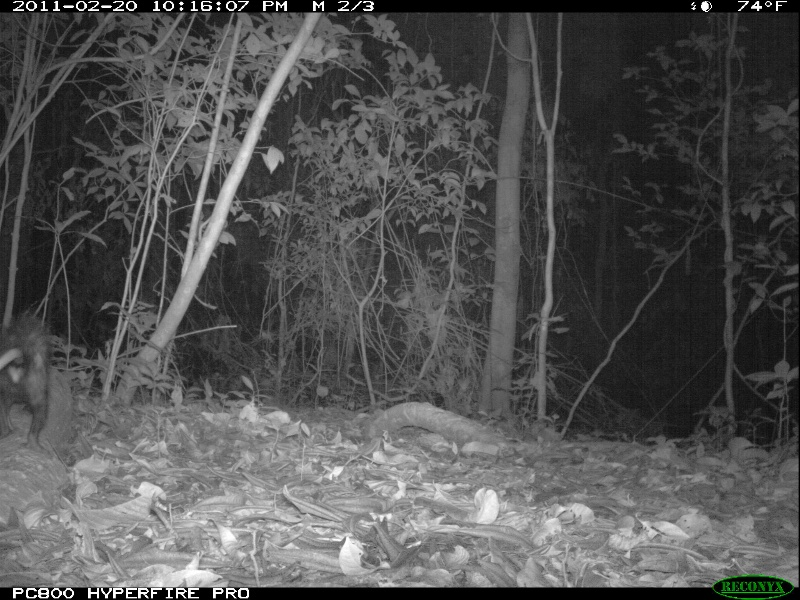opossum: (1, 310, 51, 444)
